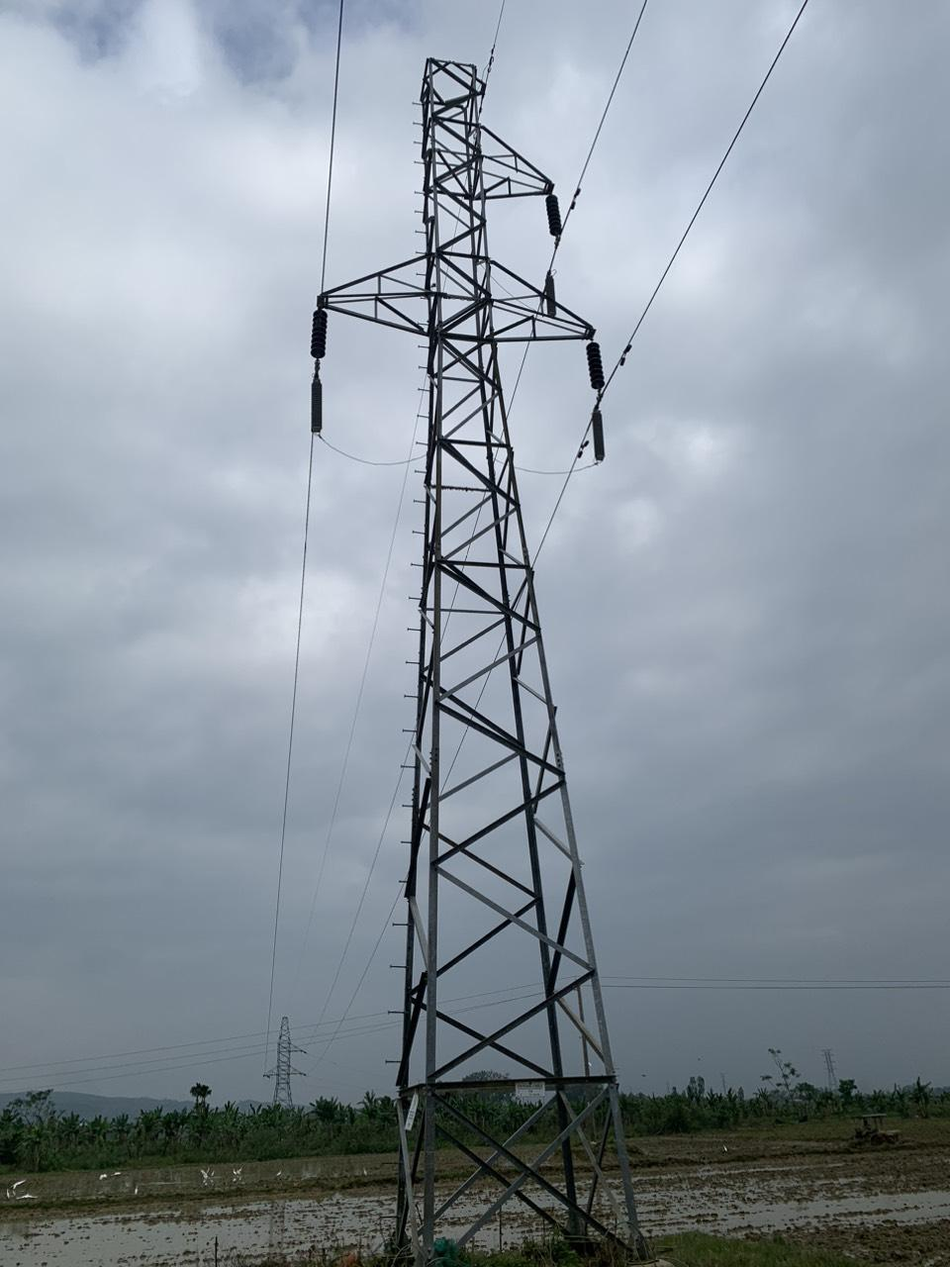power_tower: (295, 34, 641, 1247)
